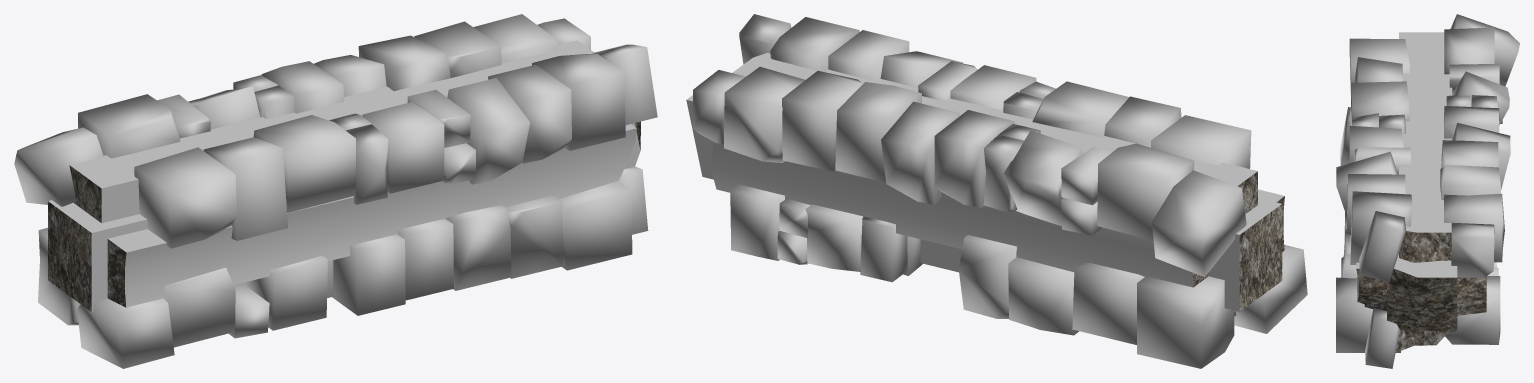
Rendered from Ruins_20C.fbx.
The picture shows the model from 3 angles, left to right: view 1: azimuth 30°, elevation 25°; view 2: azimuth 150°, elevation 25°; view 3: azimuth 270°, elevation 25°; orthographic projection. The views are drawn at different scales.
Parts seen in each view (by area): view 1: polySurface3518; view 2: polySurface3518; view 3: polySurface3518.
Boxes of the visible parts, x1,y1,x2,y2 form: polySurface3518: (14, 14, 657, 368); polySurface3518: (686, 14, 1307, 368); polySurface3518: (1336, 14, 1519, 368).
Size of the model in its own units: 4.1 by 1.29 by 1.42.
